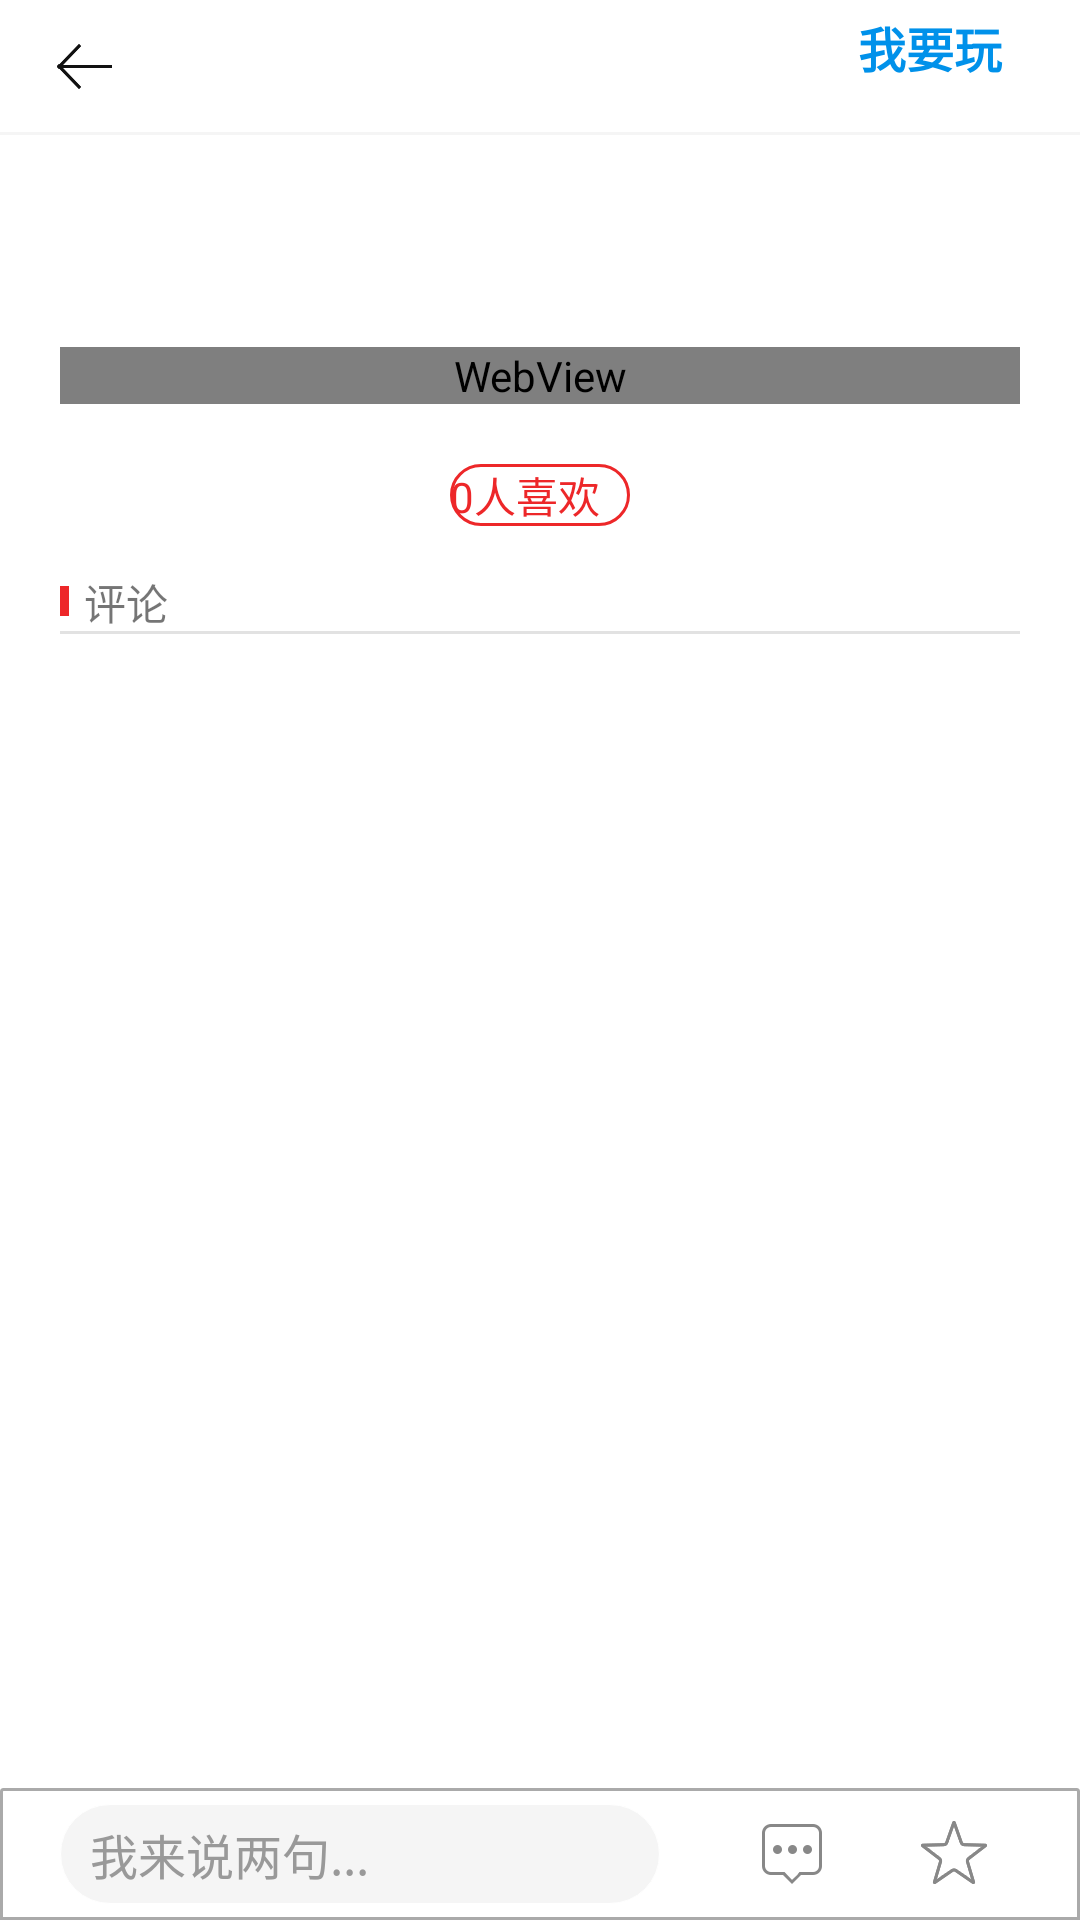

Icons on this 1080 × 1920 Android screen, each with its box as (x1, y1, x2, y2):
collect border: (921, 1821, 987, 1884)
comment circle: (762, 1824, 822, 1884)
